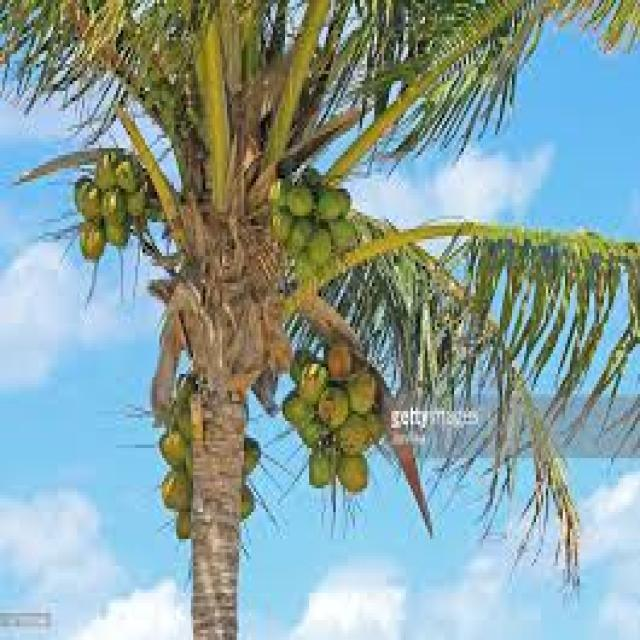Organik: (0, 0, 640, 139), (166, 366, 256, 542), (293, 342, 382, 496), (281, 178, 358, 267), (76, 158, 136, 268)
